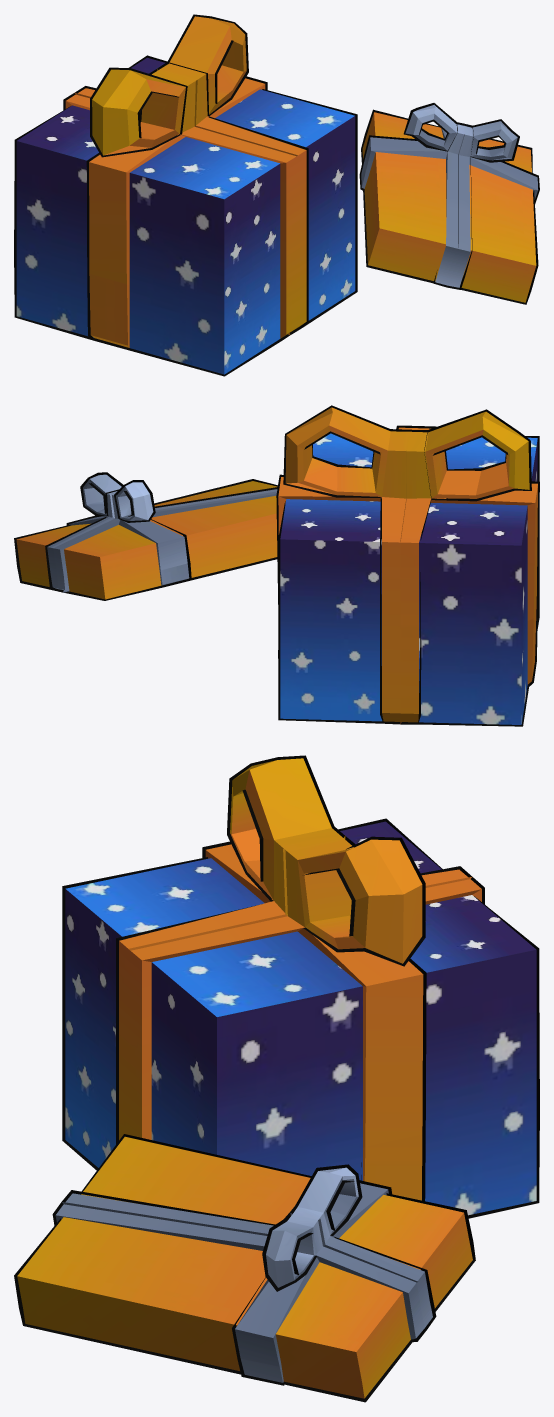
Rendered from gifts-transformed.glb.
The picture shows the model from 3 angles, top to bottom: view 1: azimuth 30°, elevation 25°; view 2: azimuth 150°, elevation 25°; view 3: azimuth 270°, elevation 25°; orthographic projection. The views are drawn at different scales.
Visible parts, largest first — view 1: Object_4, Object_5; view 2: Object_4, Object_5; view 3: Object_4, Object_5.
Boxes of the visible parts, x1,y1,x2,y2 form: Object_4: (16,16,538,374); Object_5: (14,14,539,376); Object_4: (16,407,537,724); Object_5: (14,405,539,726); Object_4: (17,758,536,1398); Object_5: (14,755,539,1402).
Size of the model in its own units: 0.4592 by 0.224 by 0.2873.
2 materials, 1 textured.
